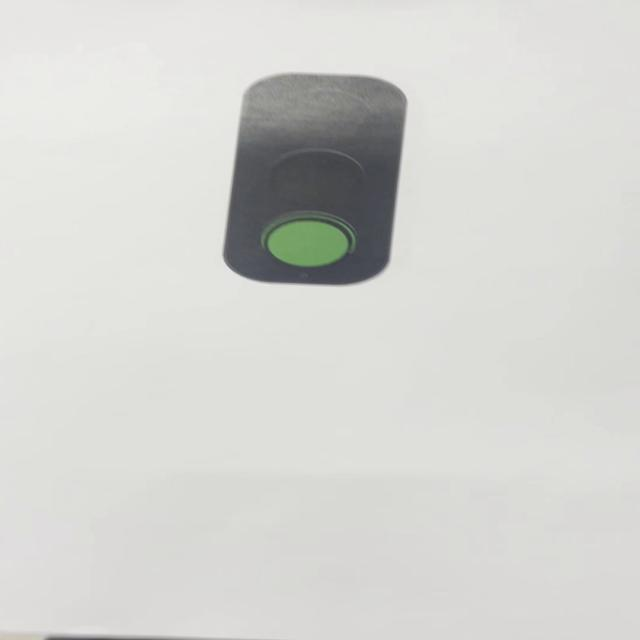green: (222, 69, 408, 290)
